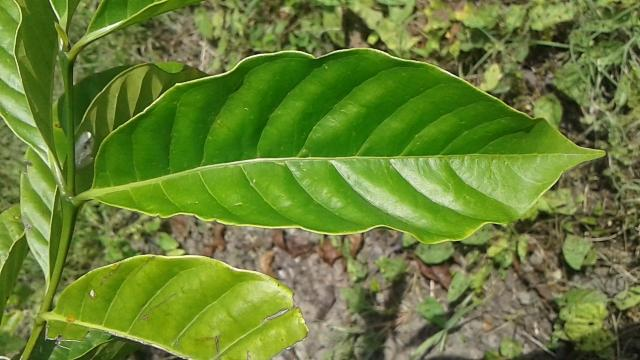healthy: (88, 47, 606, 246)
